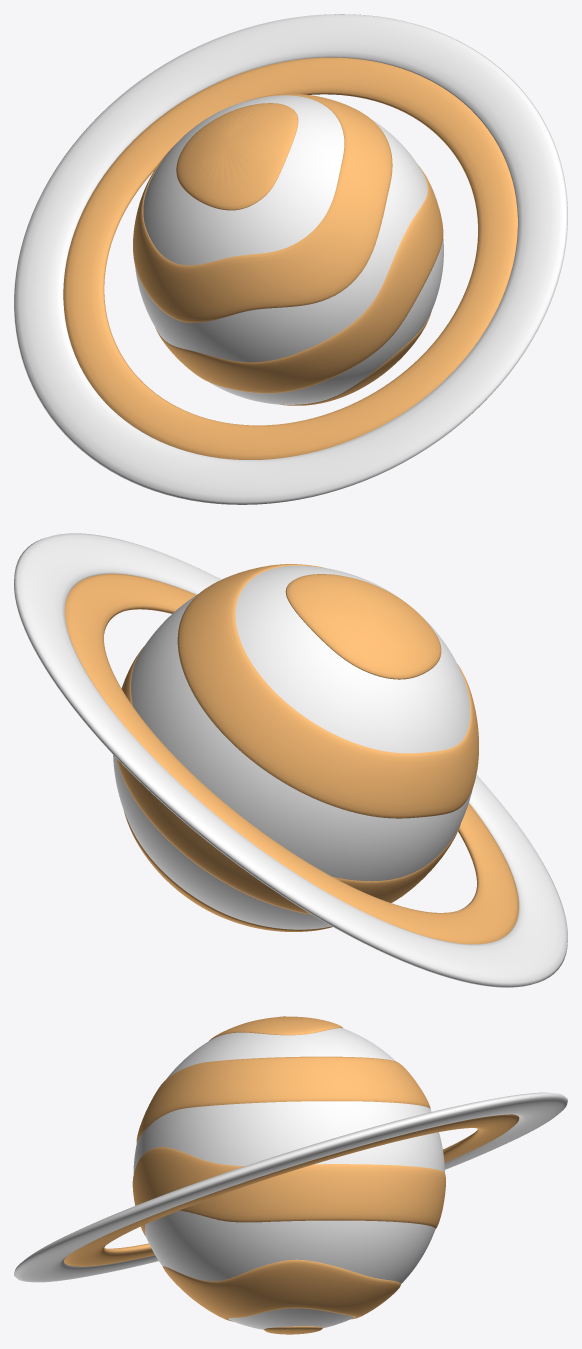
The model's file is colt-planet-yellow.glb.
The picture shows the model from 3 angles, top to bottom: view 1: azimuth 30°, elevation 25°; view 2: azimuth 150°, elevation 25°; view 3: azimuth 270°, elevation 25°; orthographic projection. The views are drawn at different scales.
Parts seen in each view (by area): view 1: Circle.002, Circle.001, Sphere.057, Sphere.011; view 2: Sphere.011, Sphere.057, Circle.002, Circle.001; view 3: Sphere.057, Sphere.011, Circle.002, Circle.001.
Part boxes in pixels (x1,y1,x2,y2): Circle.002: [14, 14, 567, 504]; Circle.001: [63, 57, 517, 459]; Sphere.057: [133, 93, 443, 405]; Sphere.011: [135, 95, 443, 404]; Sphere.011: [113, 565, 472, 929]; Sphere.057: [116, 564, 478, 931]; Circle.002: [14, 533, 567, 987]; Circle.001: [65, 573, 518, 944]; Sphere.057: [132, 1016, 445, 1334]; Sphere.011: [133, 1028, 444, 1329]; Circle.002: [14, 1092, 567, 1282]; Circle.001: [64, 1114, 519, 1266].
Size of the model in its own units: 6.81 by 4.56 by 7.46.
